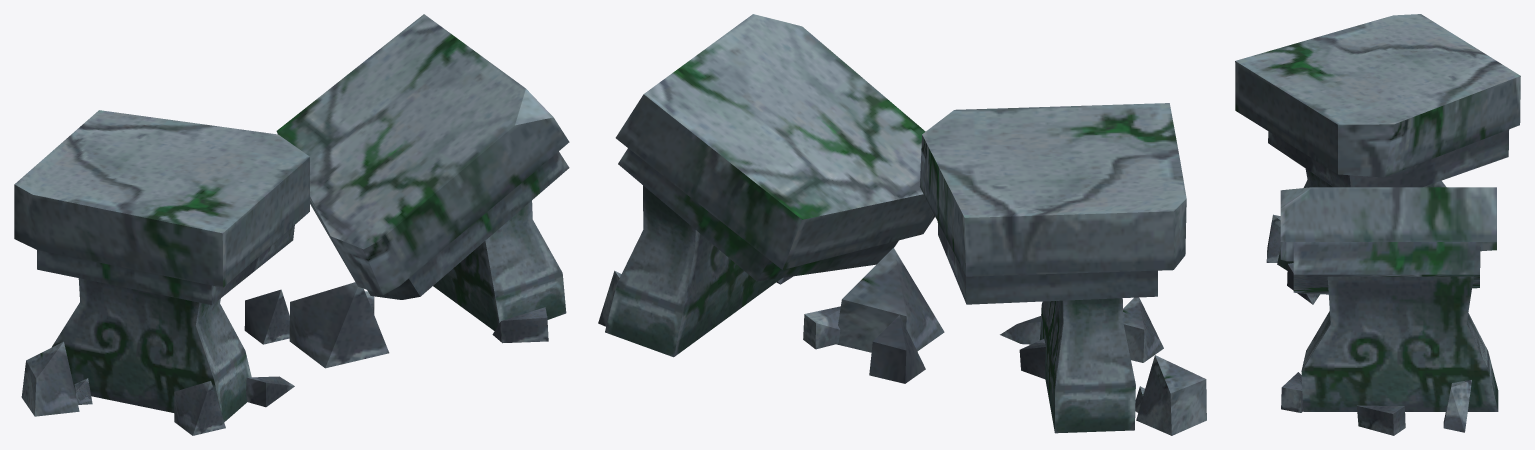
File: stemple_bench_02.fbx
3 renders of one model, left to right at view 1: azimuth 30°, elevation 25°; view 2: azimuth 150°, elevation 25°; view 3: azimuth 270°, elevation 25°, orthographic. The views are drawn at different scales.
Parts seen in each view (by area): view 1: stemple_bench_02_mat; view 2: stemple_bench_02_mat; view 3: stemple_bench_02_mat.
Boxes of the visible parts, x1,y1,x2,y2 form: stemple_bench_02_mat: (14,14,569,435); stemple_bench_02_mat: (598,14,1206,435); stemple_bench_02_mat: (1235,14,1520,435).
Bounding box in the file's own units: 2.43 × 1.08 × 1.26.
